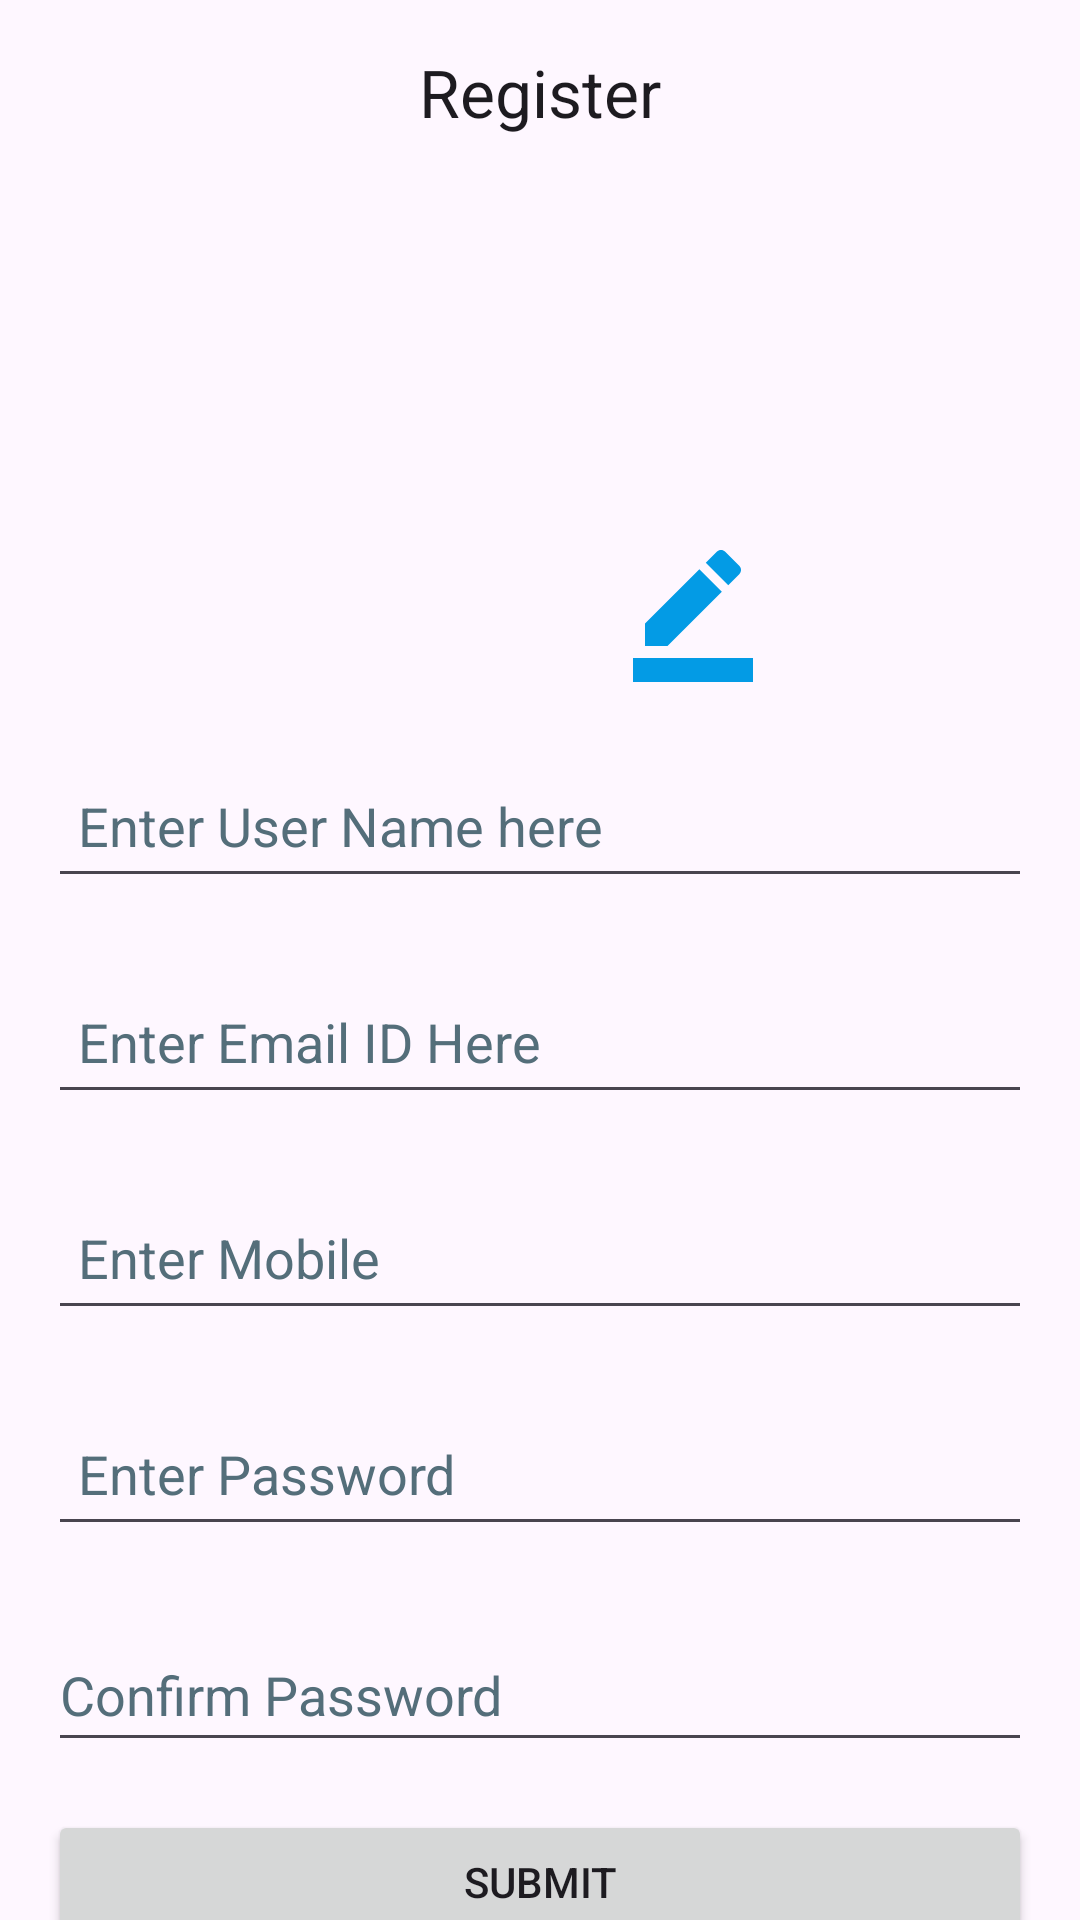

Icons on this 1080 x 1920 Android screen, each with its box as (x1, y1, x2, y2):
edit: (633, 550, 753, 682)
